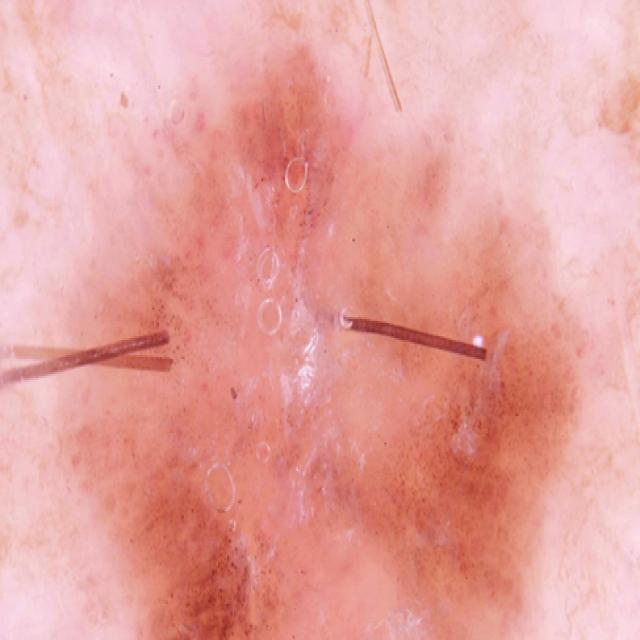Carcinoma: (3, 76, 634, 640)
